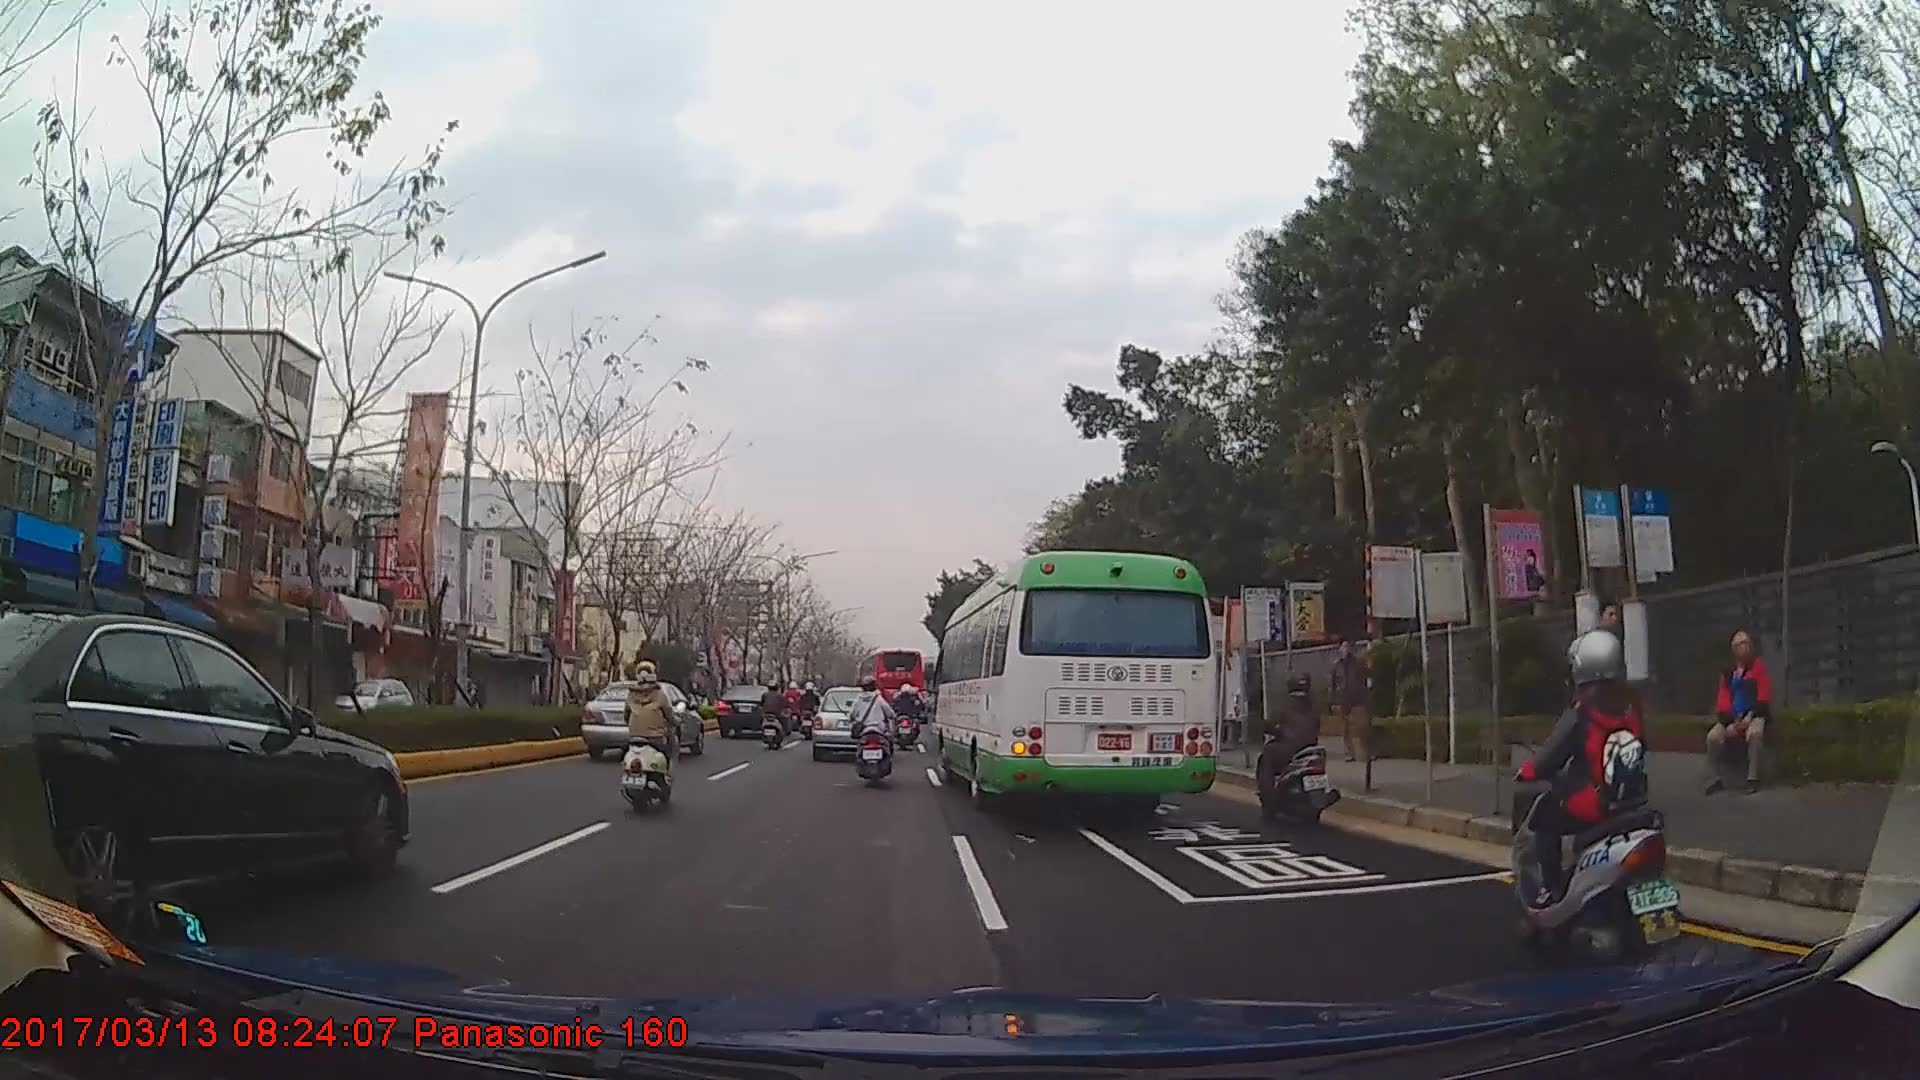pedestrian: (1574, 605, 1636, 834), (1706, 634, 1774, 799), (1324, 638, 1377, 760)
rider: (1503, 627, 1678, 945), (1245, 674, 1339, 825), (620, 660, 681, 820), (846, 678, 896, 787), (758, 682, 790, 752), (893, 683, 922, 737), (799, 680, 821, 727), (454, 675, 479, 708), (425, 674, 446, 708)
vehicle: (0, 607, 407, 947), (931, 549, 1218, 817), (579, 677, 704, 757), (811, 684, 888, 764), (328, 672, 418, 726), (855, 647, 922, 716), (718, 682, 790, 741)
